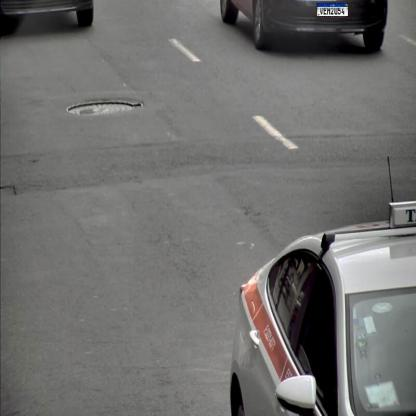PlacaM: (317, 2, 348, 16)
